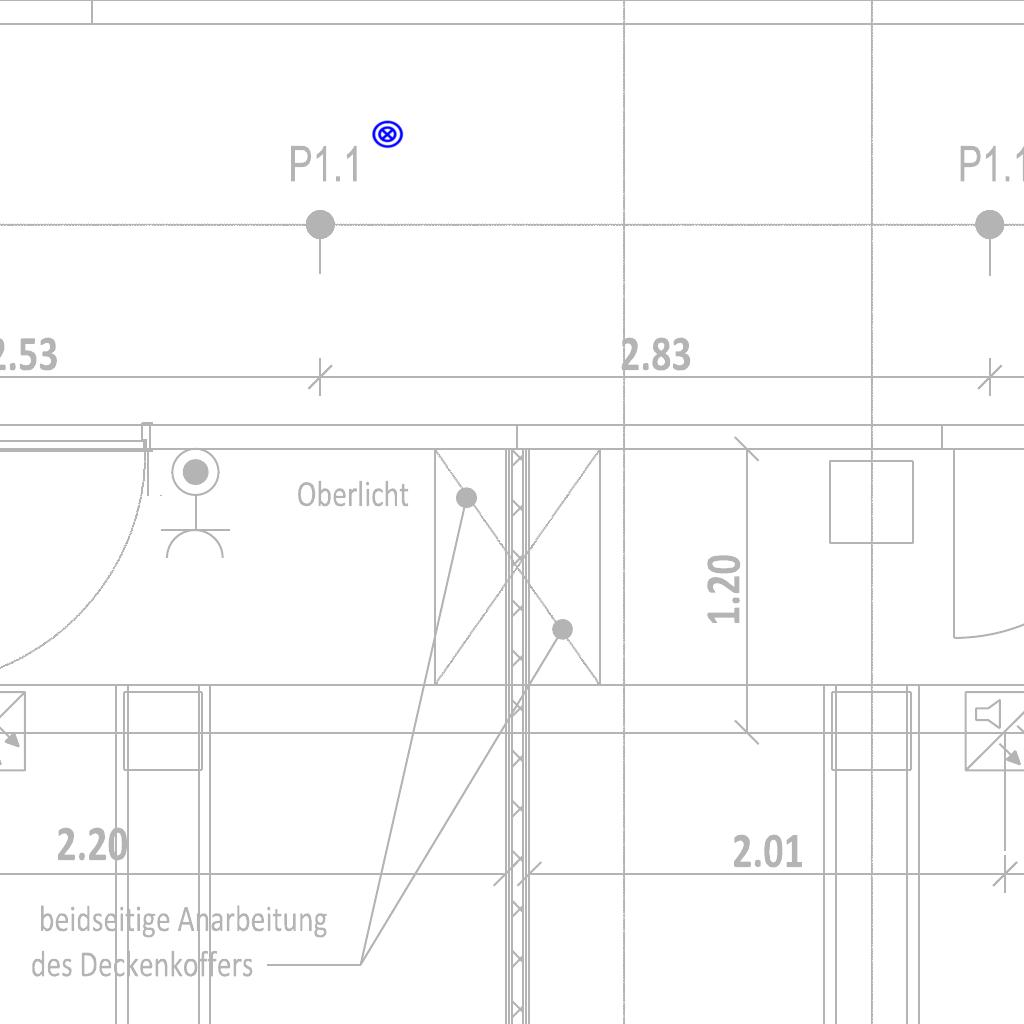Taster_beleuchtet: (371, 118, 404, 151)
